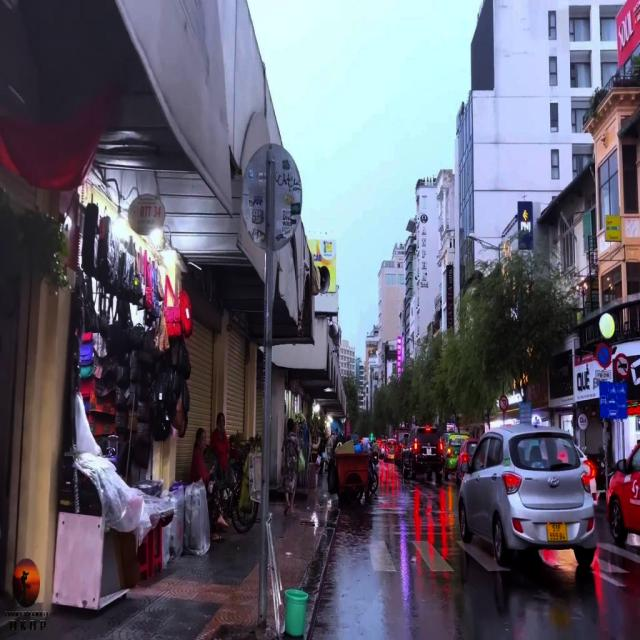cam_do_xe: (594, 340, 612, 370)
cam_o_to_re_trai: (500, 394, 508, 411)
cam_o_to_tai: (613, 352, 630, 381)
khac: (595, 369, 612, 379)
lan_duong_cho_tung_xe_theo_vach_ke_duong: (600, 380, 628, 422)
